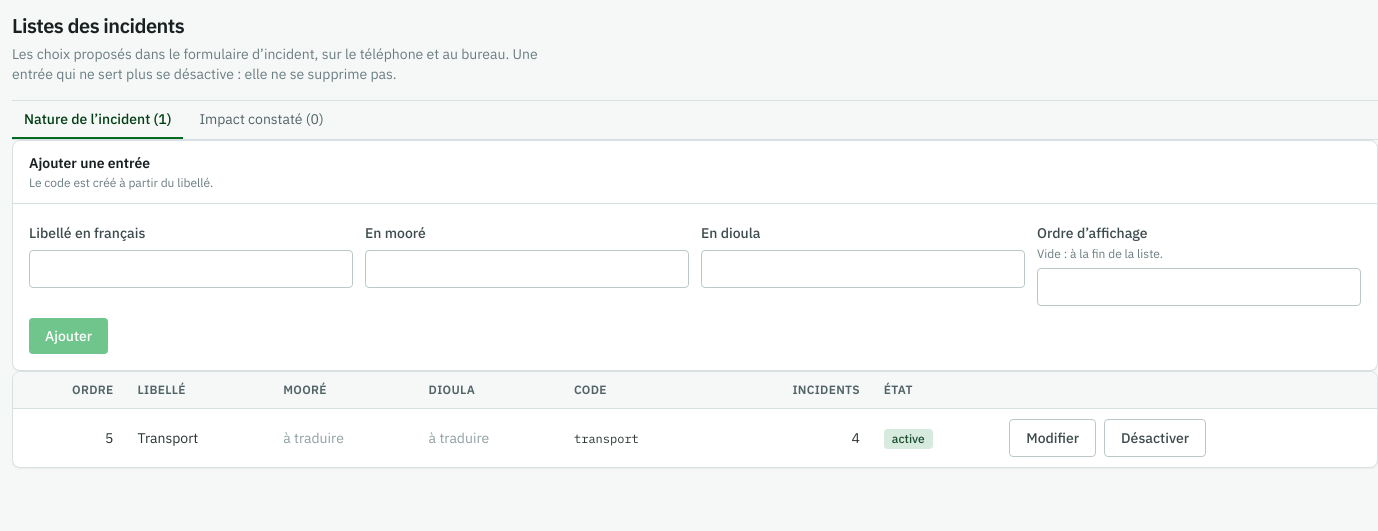
Test: Listes des incidents › désactive une entrée sans toucher à son code
This screenshot has width=1378, height=531.
Expected: the text "à traduire" is shown 2 times, [283,429,344,447]; [429,429,489,447]
Click the button "Désactiver" at (1155, 438), box [1104,419,1206,457]
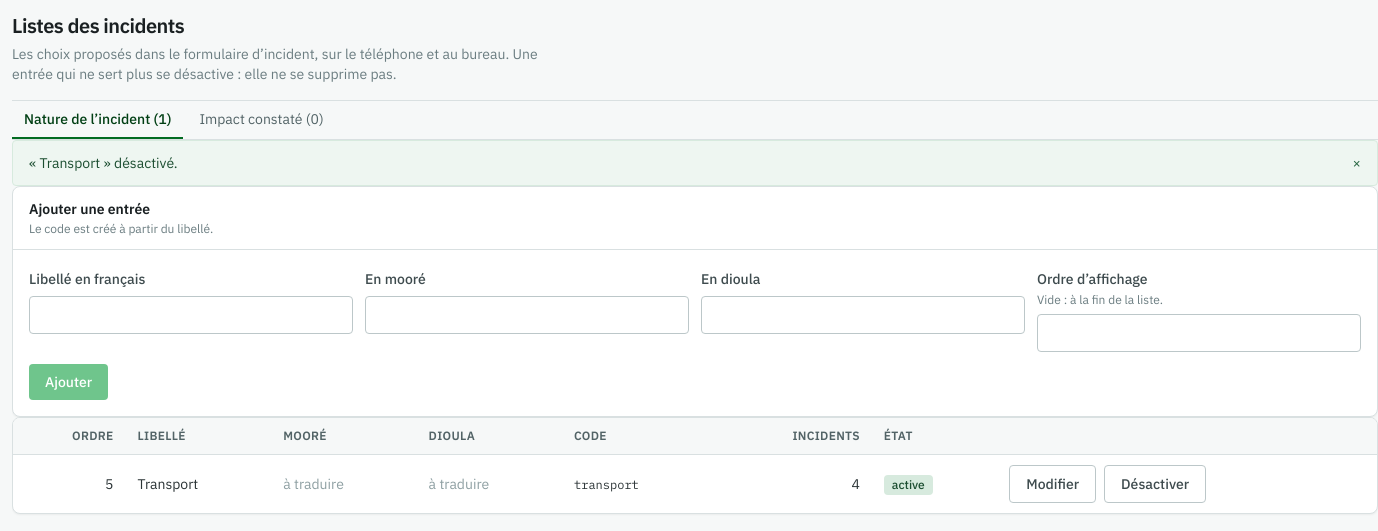
Now the text "« Transport » désactivé." is shown, box [29,153,178,173]
